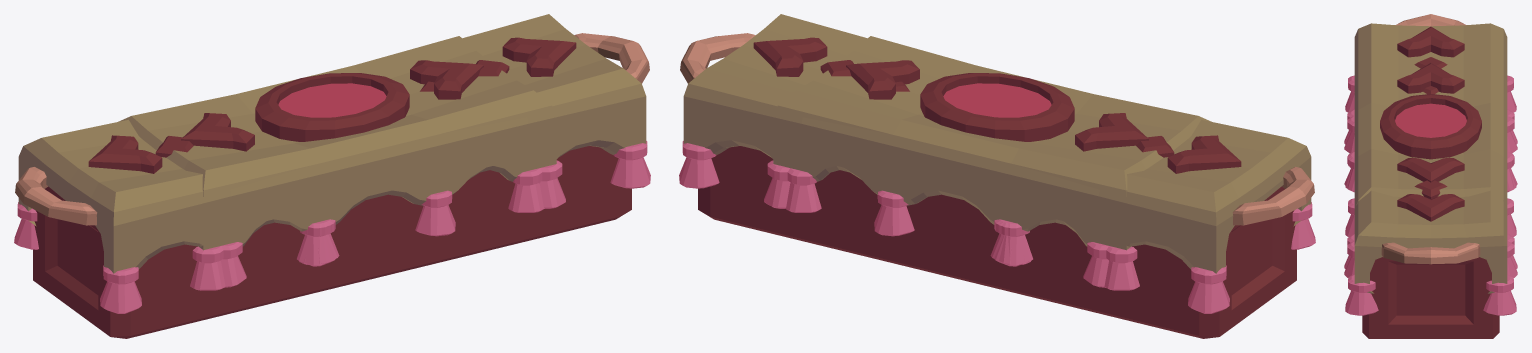
File: MusicPuzzleBlocks2.0.fbx
The picture shows the model from 3 angles, left to right: view 1: azimuth 30°, elevation 25°; view 2: azimuth 150°, elevation 25°; view 3: azimuth 270°, elevation 25°; orthographic projection. The views are drawn at different scales.
Visible parts, largest first — view 1: NoteBox3x1, NoteCube2x1; view 2: NoteBox3x1, NoteCube2x1; view 3: NoteBox3x1, NoteCube2x1.
Part boxes in pixels (box(x1,y1,x2,y2)): NoteBox3x1: box(14, 14, 650, 338); NoteCube2x1: box(118, 36, 565, 317); NoteBox3x1: box(679, 14, 1315, 338); NoteCube2x1: box(764, 36, 1211, 314); NoteBox3x1: box(1344, 14, 1517, 338); NoteCube2x1: box(1344, 58, 1517, 277).
Size of the model in its own units: 675 by 161 by 205.
